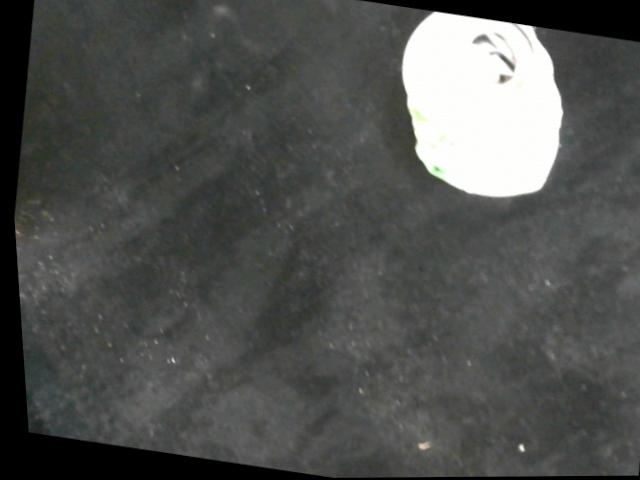can: (396, 14, 580, 205)
